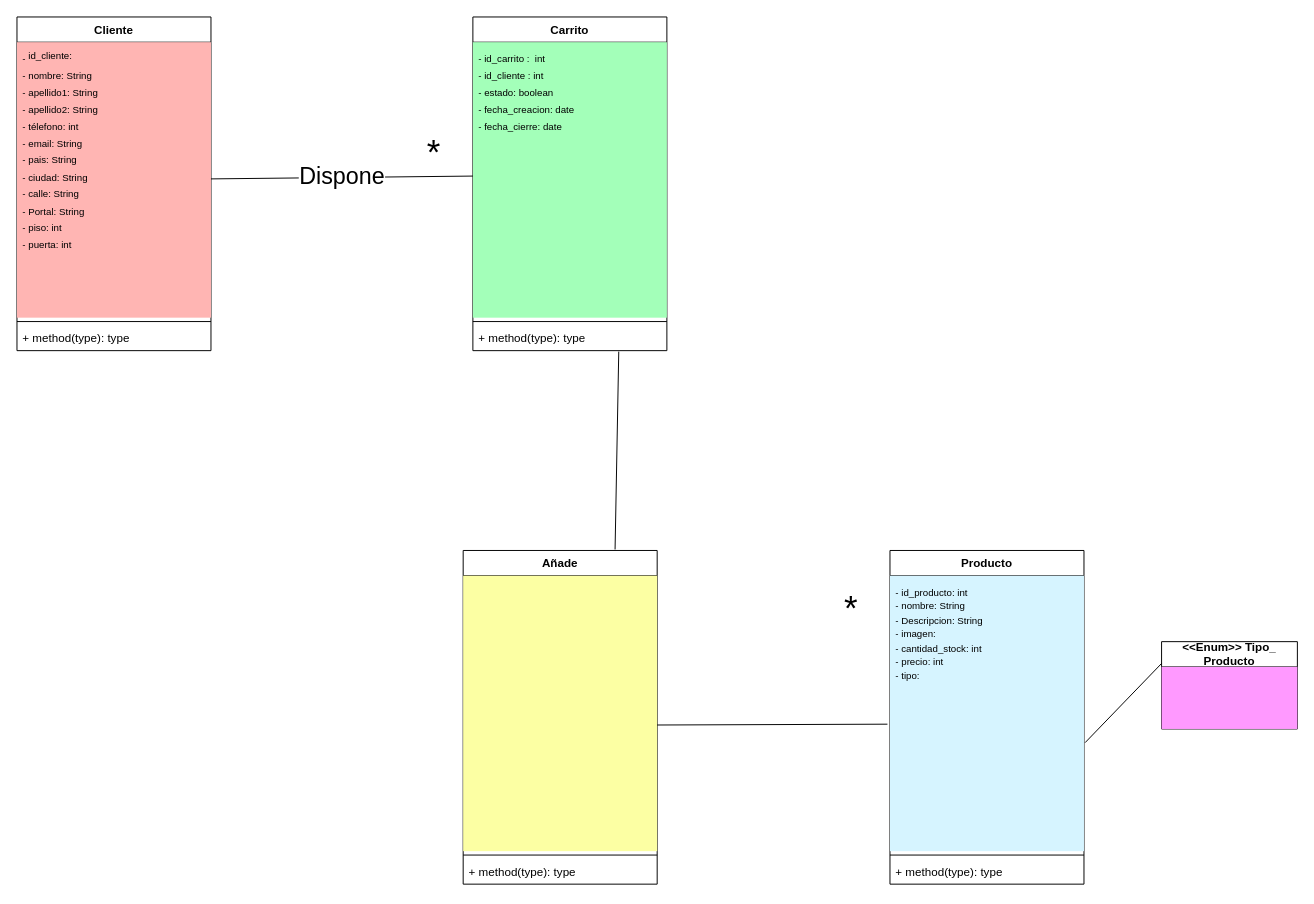
The diagram is 1314 pixels wide and 904 high, and some of its shapes have lost their labels. Here are the shapes that lost their labels. From the top down, the centre of each, then its label:
the point at 560,713: - id_producto: int - id_carrito: int - cantidad_producto: int
the point at 1229,697: - Caja_expansion - Sobres_expansion - Deck_inicio
